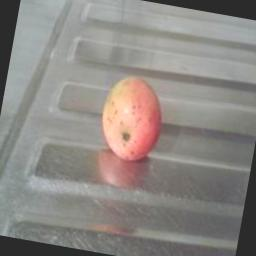Mango Unripe: (82, 58, 179, 184)
